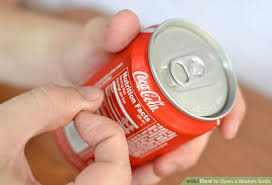can: (50, 17, 244, 170)
